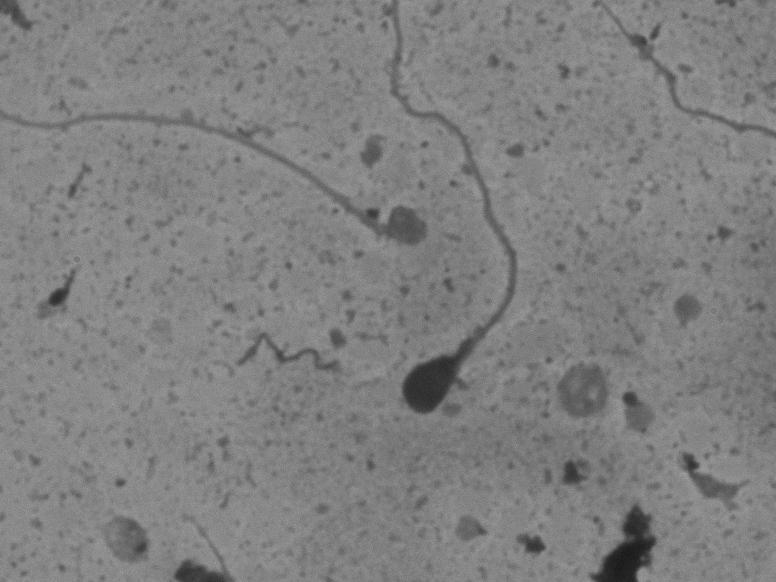Abnormal: (376, 14, 537, 424), (132, 132, 442, 262)
